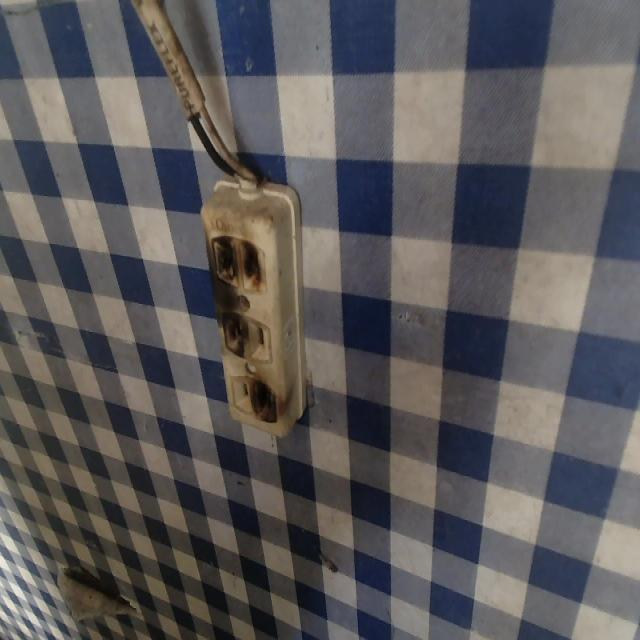-: (204, 232, 280, 297), (215, 303, 255, 365), (247, 368, 279, 431)
